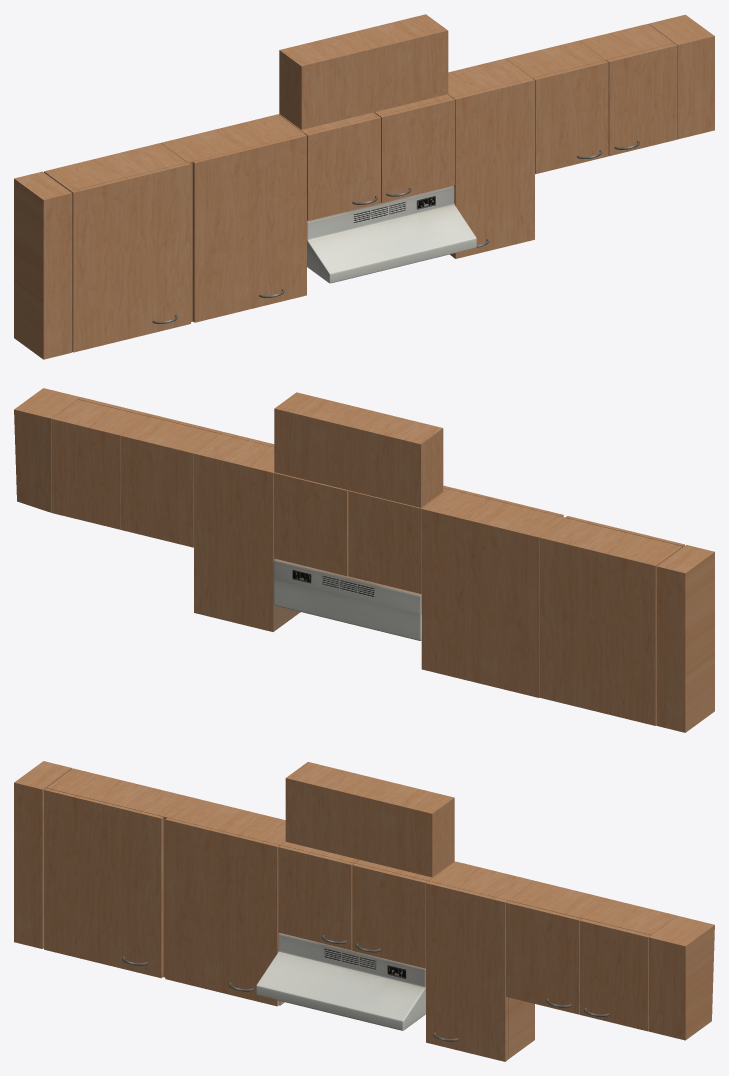
File: Kitchen-boxes.fbx
The picture shows the model from 3 angles, top to bottom: view 1: azimuth 30°, elevation 25°; view 2: azimuth 150°, elevation 25°; view 3: azimuth 330°, elevation 25°; orthographic projection.
Parts seen in each view (by area): view 1: polySurface1207; view 2: polySurface1207; view 3: polySurface1207.
Part boxes in pixels (box(x1,y1,x2,y2)): polySurface1207: box(14, 14, 714, 359); polySurface1207: box(14, 388, 714, 732); polySurface1207: box(14, 761, 714, 1061).
Size of the model in its own units: 3.4 by 1.09 by 0.4614.
Materials: 1 (1 with a texture image).
